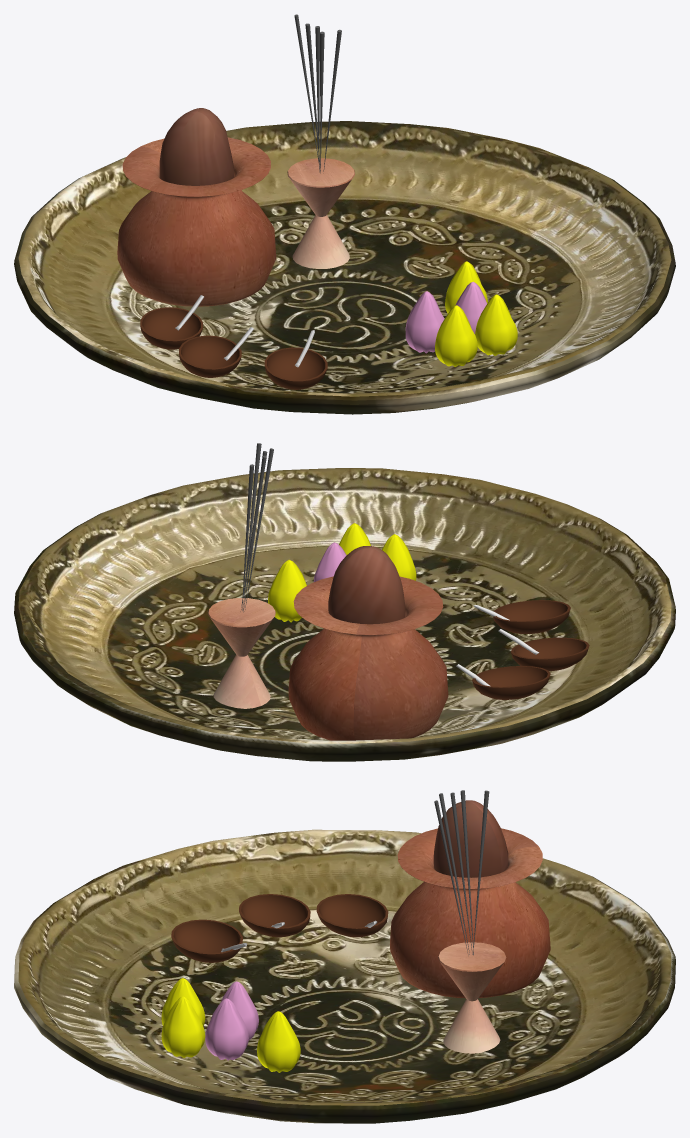
The model's file is pooja_thali.glb.
3 renders of one model, top to bottom at view 1: azimuth 30°, elevation 25°; view 2: azimuth 150°, elevation 25°; view 3: azimuth 270°, elevation 25°, orthographic.
Visible parts, largest first — view 1: THALI_phong1SG_0, polySurface14_phong3_0, polySurface71_lambert21SG_0, Object_2_lambert22SG_0, Object_4_lambert18SG_0, Object_3_lambert17SG_0, Object_9_lambert20SG_0; view 2: THALI_phong1SG_0, polySurface14_phong3_0, polySurface71_lambert21SG_0, Object_2_lambert22SG_0, Object_4_lambert18SG_0, Object_9_lambert20SG_0, Object_3_lambert17SG_0, Object_7_phong2_0; view 3: THALI_phong1SG_0, polySurface14_phong3_0, polySurface71_lambert21SG_0, Object_4_lambert18SG_0, Object_2_lambert22SG_0, Object_3_lambert17SG_0, Object_9_lambert20SG_0.
Part boxes in pixels (x1,y1,x2,y2): THALI_phong1SG_0: (14, 121, 675, 414); polySurface14_phong3_0: (117, 137, 354, 306); polySurface71_lambert21SG_0: (140, 307, 327, 389); Object_2_lambert22SG_0: (159, 108, 233, 185); Object_4_lambert18SG_0: (435, 261, 517, 366); Object_3_lambert17SG_0: (405, 281, 487, 353); Object_9_lambert20SG_0: (294, 14, 341, 173); THALI_phong1SG_0: (14, 468, 675, 761); polySurface14_phong3_0: (208, 576, 448, 740); polySurface71_lambert21SG_0: (472, 600, 589, 699); Object_2_lambert22SG_0: (328, 546, 405, 624); Object_4_lambert18SG_0: (268, 523, 416, 622); Object_9_lambert20SG_0: (240, 443, 273, 612); Object_3_lambert17SG_0: (313, 542, 346, 581); Object_7_phong2_0: (456, 605, 538, 686); THALI_phong1SG_0: (14, 829, 675, 1123); polySurface14_phong3_0: (390, 828, 550, 1053); polySurface71_lambert21SG_0: (171, 894, 388, 962); Object_4_lambert18SG_0: (161, 978, 300, 1072); Object_2_lambert22SG_0: (433, 800, 508, 877); Object_3_lambert17SG_0: (205, 981, 258, 1060); Object_9_lambert20SG_0: (434, 790, 489, 955).
Size of the model in its own units: 0.2743 by 0.1146 by 0.2743.
8 materials, 3 textured.
